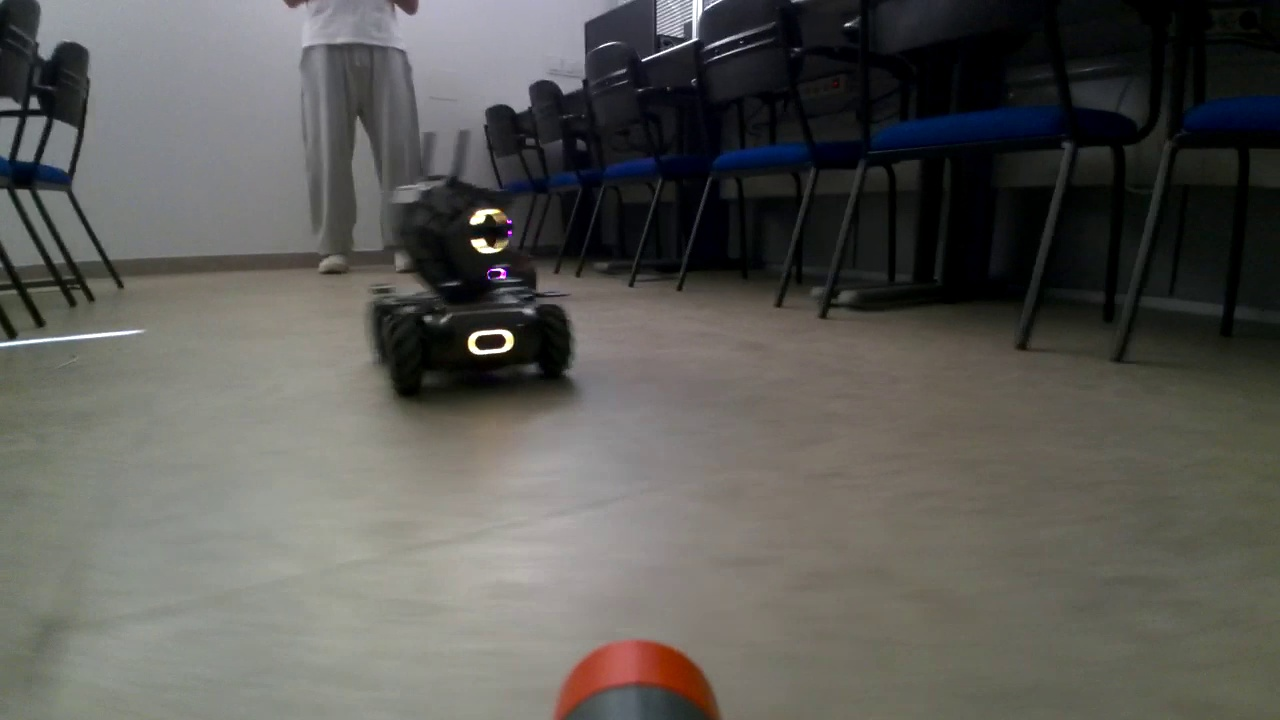robot: (367, 135, 572, 379), (439, 204, 538, 298)
